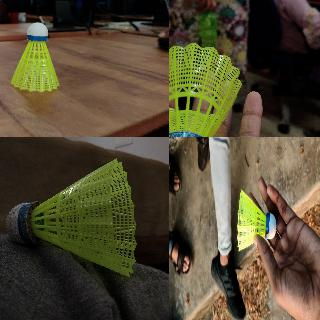shuttlecock: (5, 158, 135, 278), (169, 45, 243, 136), (10, 21, 60, 90), (237, 189, 276, 251)
